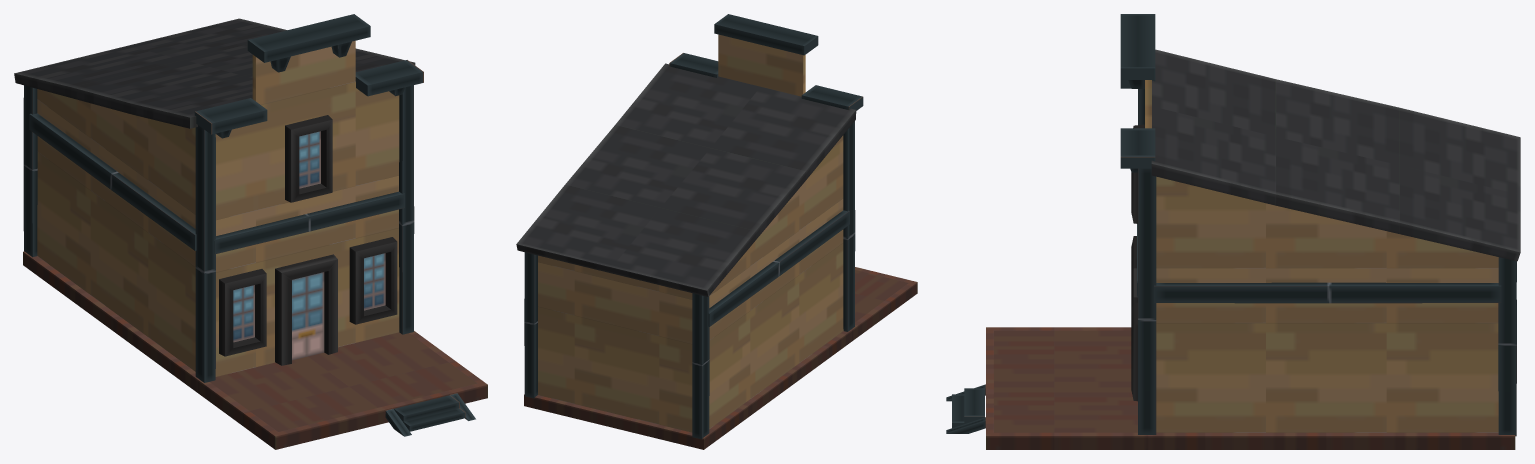
File: house_v4_02_ncl1_2.fbx
3 views of the same model, side by side, from view 1: azimuth 30°, elevation 25°; view 2: azimuth 150°, elevation 25°; view 3: azimuth 270°, elevation 25° (orthographic). The views are drawn at different scales.
Parts seen in each view (by area): view 1: house_v4_02; view 2: house_v4_02; view 3: house_v4_02.
Boxes of the visible parts, x1,y1,x2,y2 form: house_v4_02: [14, 14, 487, 449]; house_v4_02: [516, 14, 917, 449]; house_v4_02: [946, 14, 1520, 449].
Bounding box in the file's own units: 451 × 647 × 951.
